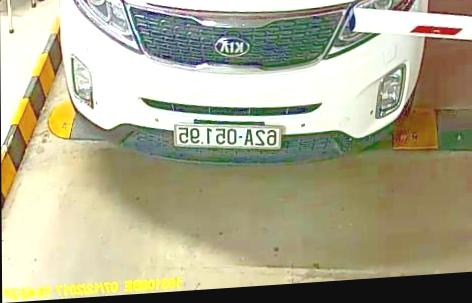License_Plate: (173, 121, 284, 155)
